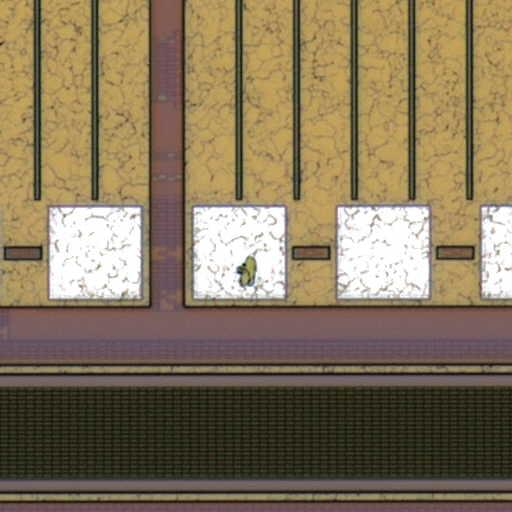BLOCK ETCH: (227, 249, 271, 293)
